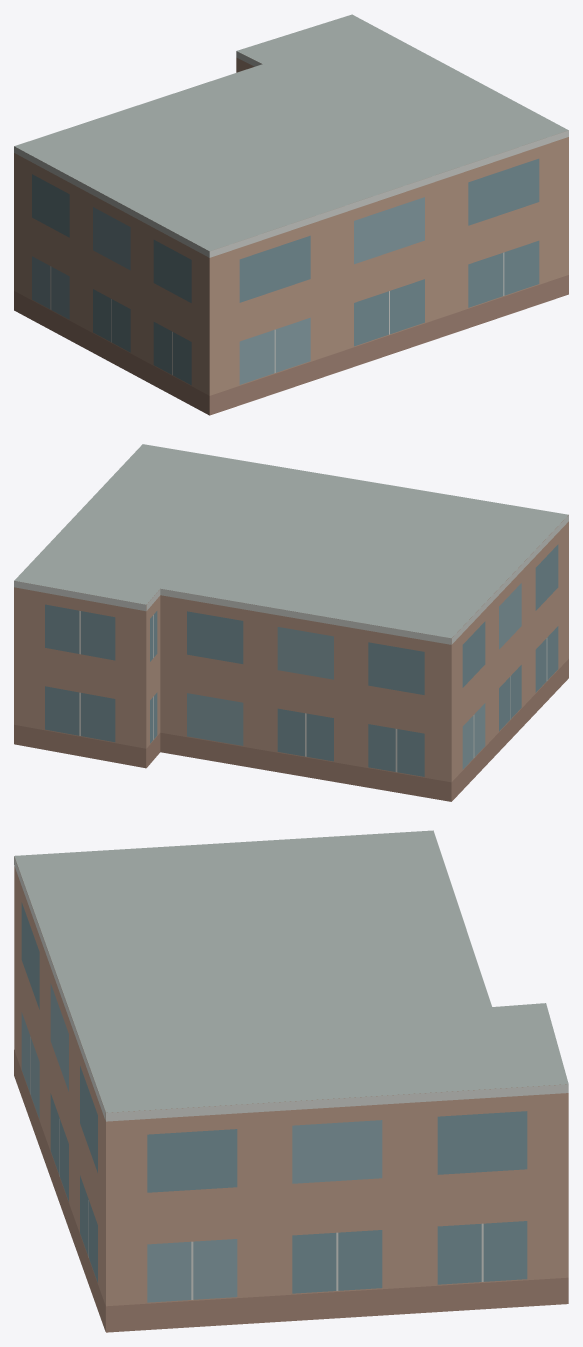
The model's file is survey-upis-32843276.glb.
3 renders of one model, top to bottom at view 1: azimuth 30°, elevation 25°; view 2: azimuth 150°, elevation 25°; view 3: azimuth 270°, elevation 25°, orthographic. The views are drawn at different scales.
Parts seen in each view (by area): view 1: survey-upis-32843276.tmp; view 2: survey-upis-32843276.tmp; view 3: survey-upis-32843276.tmp.
Boxes of the visible parts, bbox=[...] form: survey-upis-32843276.tmp: bbox=[14, 14, 568, 415]; survey-upis-32843276.tmp: bbox=[14, 444, 568, 801]; survey-upis-32843276.tmp: bbox=[14, 830, 568, 1332].
Size of the model in its own units: 16.83 by 6.1 by 13.97.
